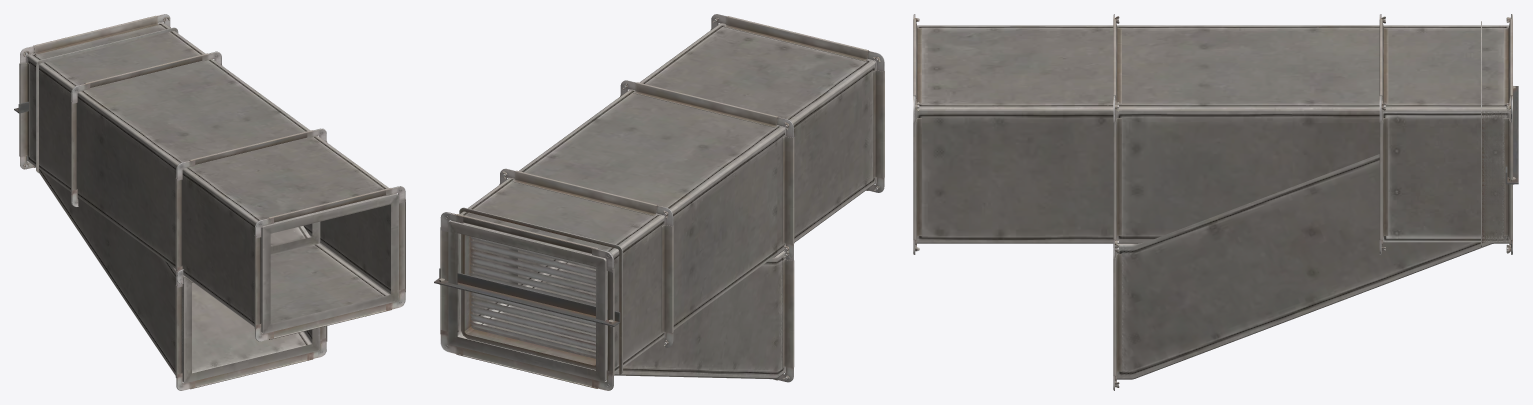
Rendered from modular_airduct_rectangular_01.glb.
The picture shows the model from 3 angles, left to right: view 1: azimuth 30°, elevation 25°; view 2: azimuth 150°, elevation 25°; view 3: azimuth 270°, elevation 25°; orthographic projection. The views are drawn at different scales.
Visible parts, largest first — view 1: modular_airduct_rectangular_01_tripple_01, modular_airduct_rectangular_01_transition_double_01, modular_airduct_rectangular_01_double_01, modular_airduct_rectangular_01_connector_01, modular_airduct_rectangular_01_half_01; view 2: modular_airduct_rectangular_01_tripple_01, modular_airduct_rectangular_01_double_01, modular_airduct_rectangular_01_transition_double_01, modular_airduct_rectangular_01_half_01, modular_airduct_rectangular_01_vent_01, modular_airduct_rectangular_01_brace_01, modular_airduct_rectangular_01_connector_01; view 3: modular_airduct_rectangular_01_tripple_01, modular_airduct_rectangular_01_transition_double_01, modular_airduct_rectangular_01_double_01, modular_airduct_rectangular_01_half_01, modular_airduct_rectangular_01_connector_01, modular_airduct_rectangular_01_brace_01.
Part boxes in pixels (<box>): modular_airduct_rectangular_01_tripple_01: <box>20,14,405,341</box>; modular_airduct_rectangular_01_transition_double_01: <box>19,14,327,390</box>; modular_airduct_rectangular_01_double_01: <box>21,17,327,283</box>; modular_airduct_rectangular_01_connector_01: <box>20,16,178,172</box>; modular_airduct_rectangular_01_half_01: <box>19,14,222,206</box>; modular_airduct_rectangular_01_tripple_01: <box>441,14,884,387</box>; modular_airduct_rectangular_01_double_01: <box>440,80,794,390</box>; modular_airduct_rectangular_01_transition_double_01: <box>440,212,794,390</box>; modular_airduct_rectangular_01_half_01: <box>440,168,673,390</box>; modular_airduct_rectangular_01_vent_01: <box>458,233,595,370</box>; modular_airduct_rectangular_01_brace_01: <box>434,268,620,326</box>; modular_airduct_rectangular_01_connector_01: <box>440,207,622,388</box>; modular_airduct_rectangular_01_tripple_01: <box>913,14,1512,254</box>; modular_airduct_rectangular_01_transition_double_01: <box>1113,14,1512,390</box>; modular_airduct_rectangular_01_double_01: <box>1113,14,1512,254</box>; modular_airduct_rectangular_01_half_01: <box>1379,14,1512,254</box>; modular_airduct_rectangular_01_connector_01: <box>1481,19,1512,249</box>; modular_airduct_rectangular_01_brace_01: <box>1505,86,1518,184</box>.
Bounding box in the file's own units: 0.6897 × 0.9627 × 1.82.
Materials: 2 (2 with a texture image).
